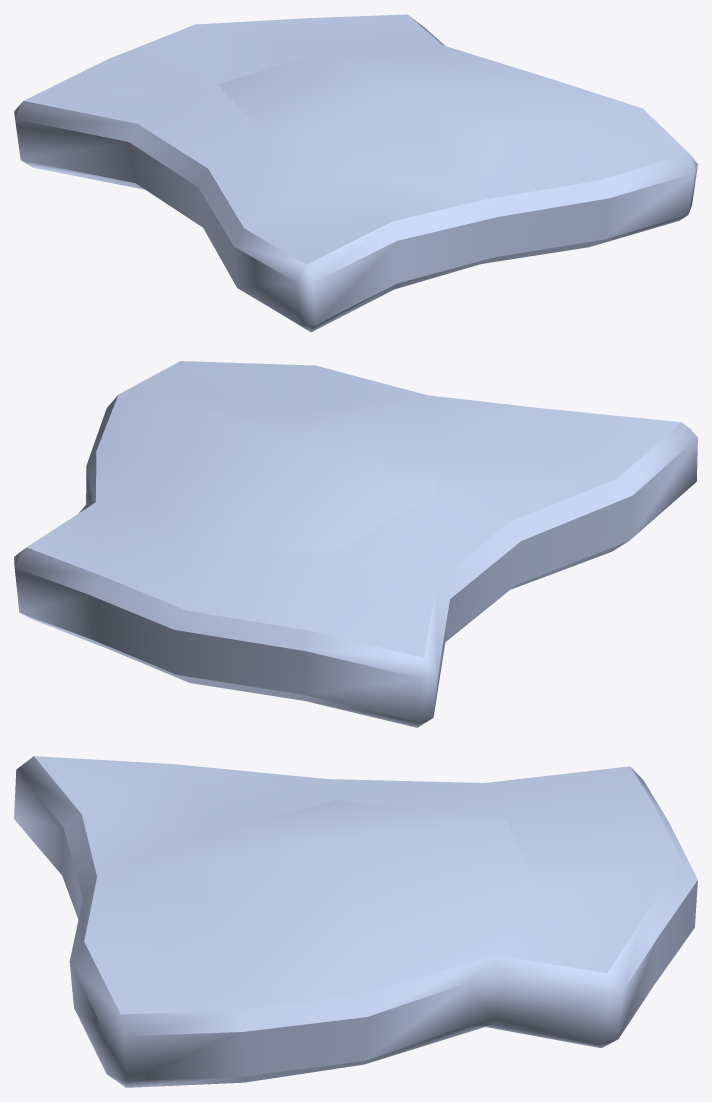
File: floe5.fbx
3 views of the same model, one above another, from view 1: azimuth 30°, elevation 25°; view 2: azimuth 150°, elevation 25°; view 3: azimuth 270°, elevation 25° (orthographic). The views are drawn at different scales.
Visible parts, largest first — view 1: Plane.024; view 2: Plane.024; view 3: Plane.024.
Boxes of the visible parts, x1,y1,x2,y2 form: Plane.024: [14, 14, 697, 332]; Plane.024: [14, 361, 697, 727]; Plane.024: [14, 756, 697, 1087].
Bounding box in the file's own units: 140 × 33.69 × 153.
